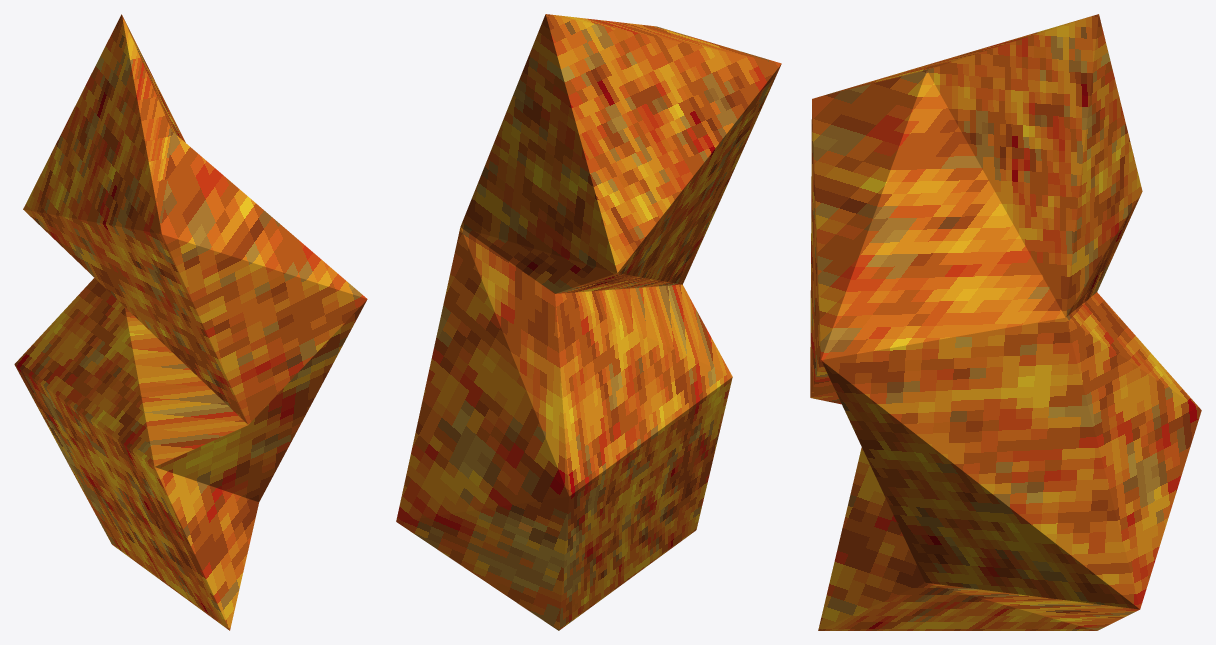
Rendered from chunk.obj.
3 views of the same model, side by side, from view 1: azimuth 30°, elevation 25°; view 2: azimuth 150°, elevation 25°; view 3: azimuth 270°, elevation 25° (orthographic). The views are drawn at different scales.
Bounding box in the file's own units: 0.4076 × 0.9797 × 0.558.
Materials: 1 (1 with a texture image).
